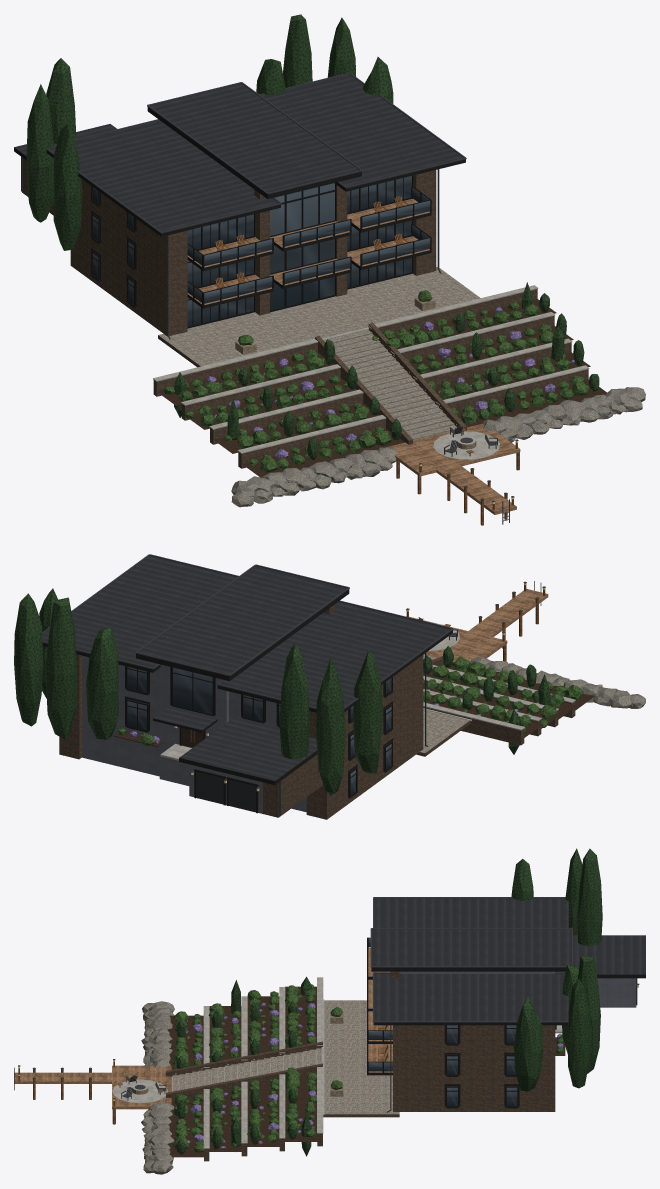
File: lot-8017.fbx
The picture shows the model from 3 angles, top to bottom: view 1: azimuth 30°, elevation 25°; view 2: azimuth 150°, elevation 25°; view 3: azimuth 270°, elevation 25°; orthographic projection. The views are drawn at different scales.
Visible parts, largest first — view 1: lot-8017_LOD0; view 2: lot-8017_LOD0; view 3: lot-8017_LOD0.
Boxes of the visible parts, x1,y1,x2,y2 form: lot-8017_LOD0: [14, 14, 645, 525]; lot-8017_LOD0: [14, 554, 645, 819]; lot-8017_LOD0: [14, 848, 645, 1174].
Size of what is drawn, in the model's own units: 37.21 by 20.95 by 58.47.
Materials: 2 (2 with a texture image).
